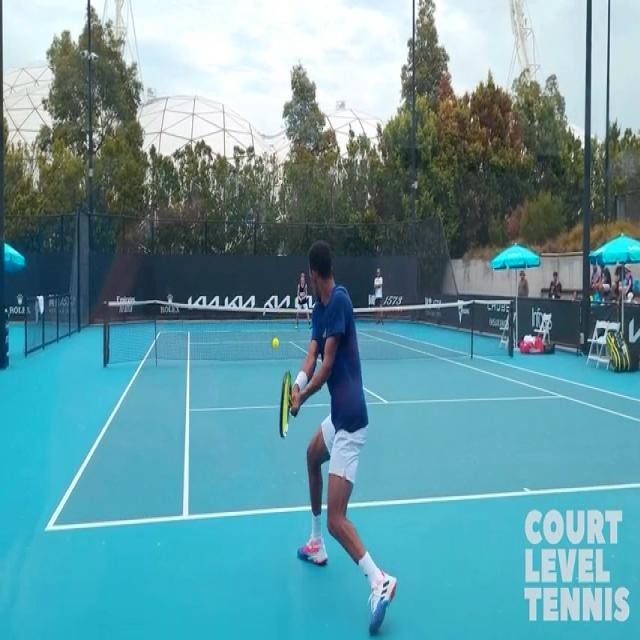backhand-stroke: (267, 226, 425, 636)
